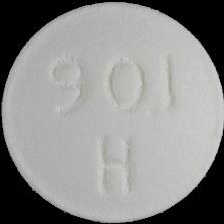10544-017: (0, 0, 224, 224)
